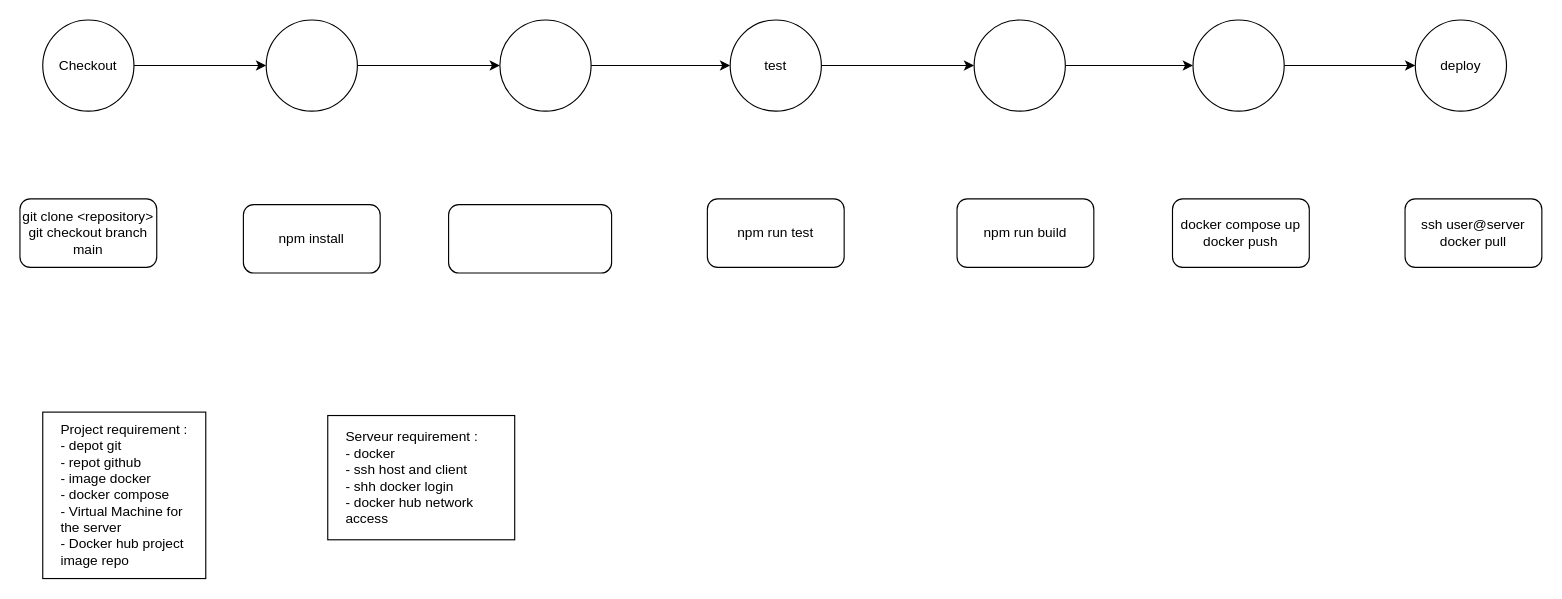
Image size: 1562x599. Some labels were removed from this diagram. The shapes that lost their labels are listed below. From the top down, each one's box as (x1, y1, x2, y2) in pixels, then its label:
(265, 19, 357, 111): dependencies
(499, 19, 591, 111): lint
(973, 19, 1065, 111): build
(1192, 19, 1284, 111): package
(447, 203, 612, 273): npx eslint src/ --format checkstyle --output-file eslint-report.xml
